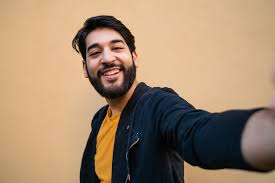Human_Male: (78, 25, 147, 178)
